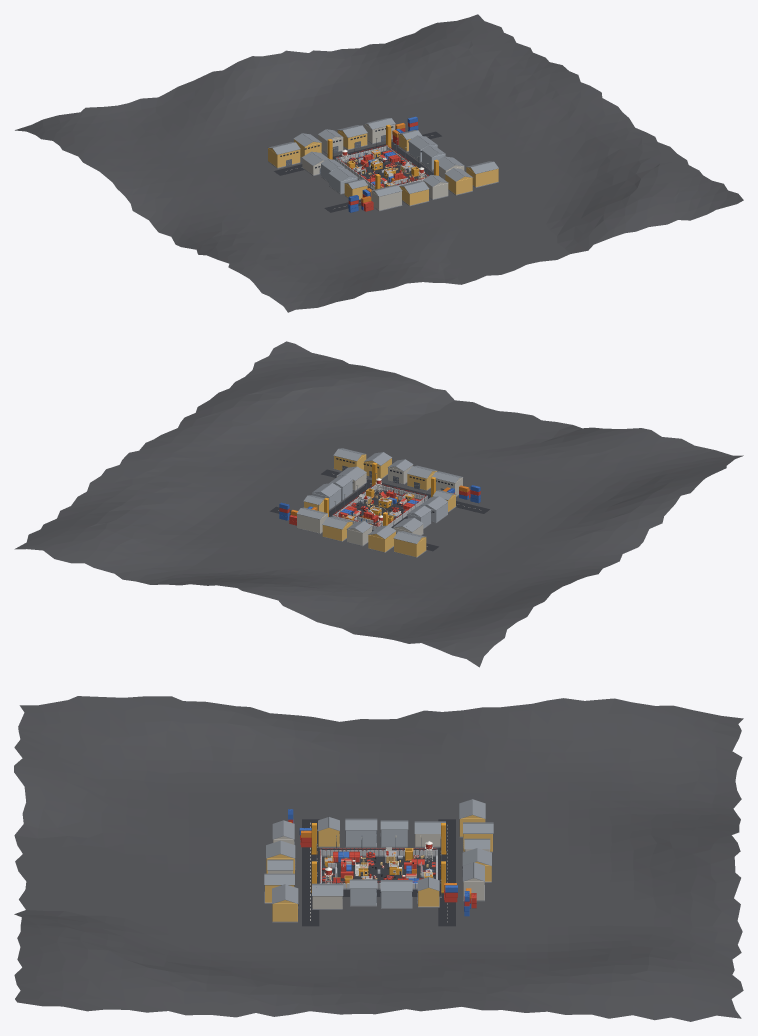
File: bazabl-TDNBUVWX.glb
3 views of the same model, one above another, from view 1: azimuth 30°, elevation 25°; view 2: azimuth 150°, elevation 25°; view 3: azimuth 270°, elevation 25° (orthographic). The views are drawn at different scales.
Visible parts, largest first — view 1: Teren, Tlo_whRoof, Tlo_yelL, Tlo_whWall, Tlo_asphalt2, Tlo_whWall2, Plac_yel, Plac_concrete; view 2: Teren, Tlo_whRoof, Tlo_yelL, Tlo_whWall, Tlo_asphalt2, Tlo_whWall2, Plac_yel, Plac_concrete; view 3: Teren, Tlo_whRoof, Tlo_asphalt2, Tlo_yelL, Tlo_whWall2, Tlo_whWall, Plac_asphalt, Plac_yel, Plac_concrete, Plac_cRed, Tlo_concreteD.
Part boxes in pixels (x1,y1,x2,y2): Teren: (15, 14, 743, 312); Tlo_whRoof: (268, 118, 498, 196); Tlo_yelL: (268, 130, 498, 205); Tlo_whWall: (302, 124, 464, 210); Tlo_asphalt2: (274, 131, 441, 212); Tlo_whWall2: (321, 141, 445, 193); Plac_yel: (327, 124, 438, 189); Plac_concrete: (337, 146, 427, 189); Teren: (14, 341, 743, 667); Tlo_whRoof: (296, 448, 463, 543); Tlo_yelL: (304, 454, 455, 557); Tlo_whWall: (297, 465, 462, 545); Tlo_asphalt2: (270, 469, 489, 551); Tlo_whWall2: (312, 480, 447, 528); Plac_yel: (324, 462, 435, 525); Plac_concrete: (334, 484, 426, 529); Teren: (14, 696, 743, 1021); Tlo_whRoof: (264, 799, 493, 903); Tlo_asphalt2: (302, 819, 455, 926); Tlo_yelL: (265, 815, 492, 921); Tlo_whWall2: (345, 830, 411, 907); Tlo_whWall: (268, 834, 489, 908); Plac_asphalt: (319, 856, 438, 889); Plac_yel: (311, 823, 445, 891); Plac_concrete: (320, 850, 437, 887); Plac_cRed: (322, 844, 435, 883); Tlo_concreteD: (264, 836, 492, 922).
Size of the model in its own units: 346 by 15.8 by 346.
